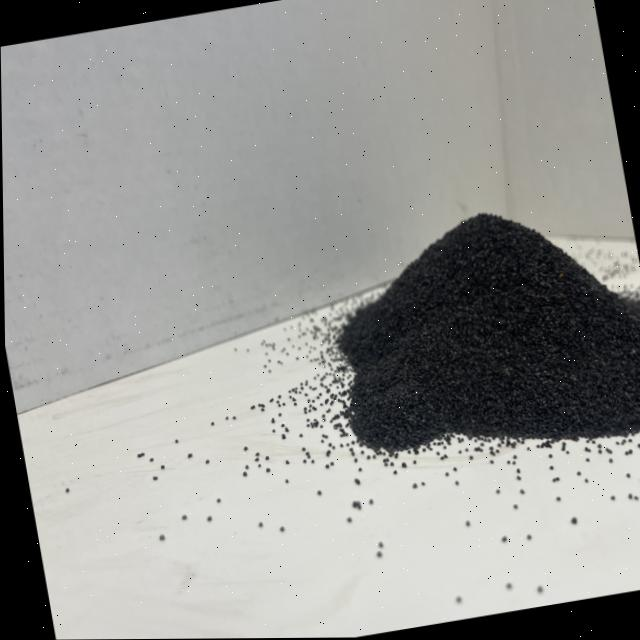Poppy Seeds: (305, 168, 640, 519)
